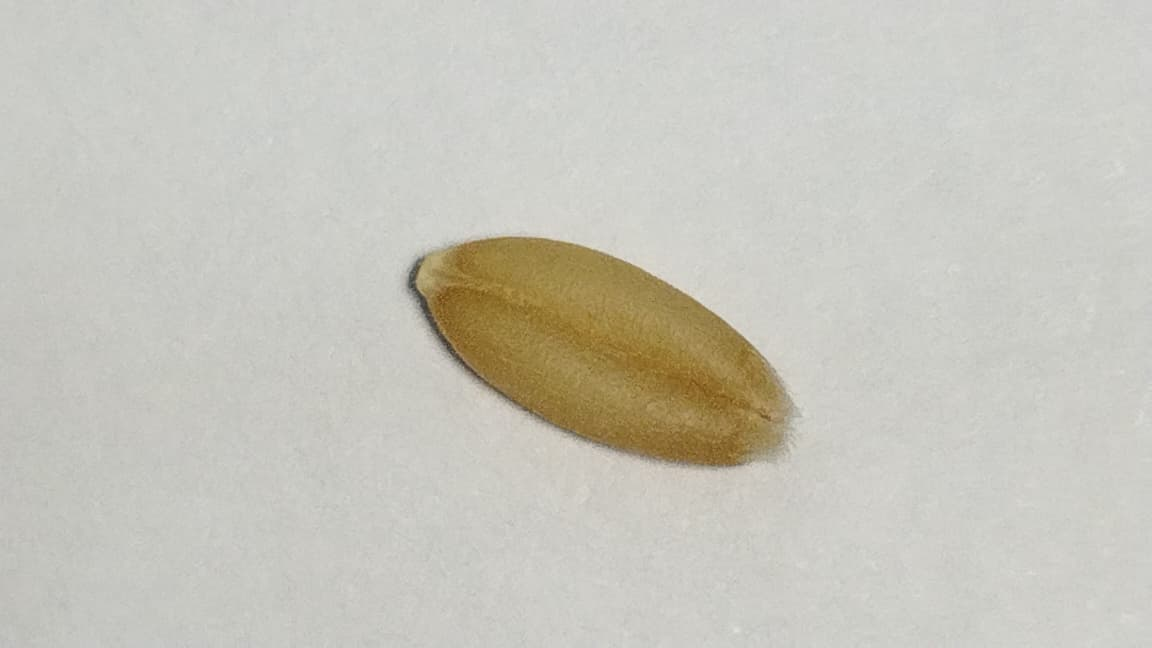healthy: (413, 236, 791, 465)
